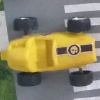amarillo: (2, 18, 95, 86)
